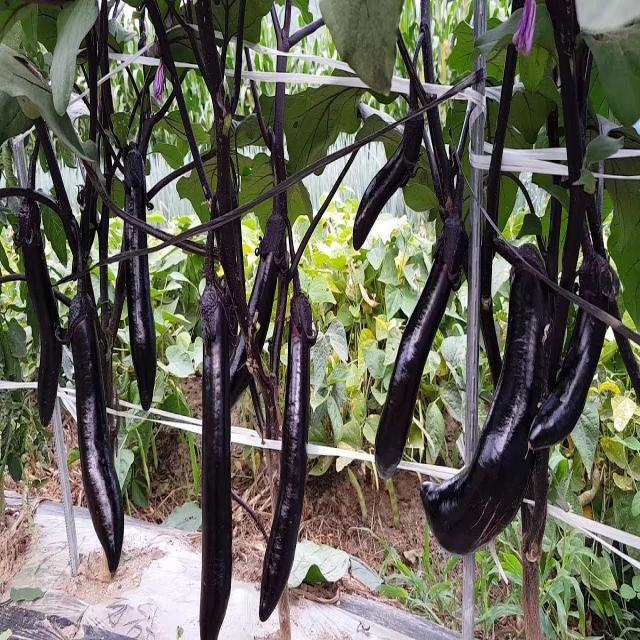eggplant: (418, 232, 558, 564), (356, 158, 472, 498), (56, 269, 150, 608), (189, 268, 241, 640), (344, 54, 428, 258), (272, 269, 314, 624)
